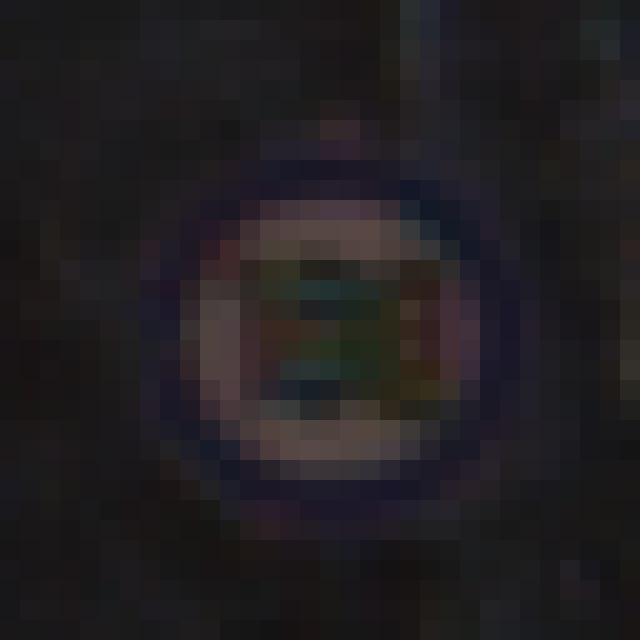SPEED LIMIT 100: (148, 161, 516, 499)
